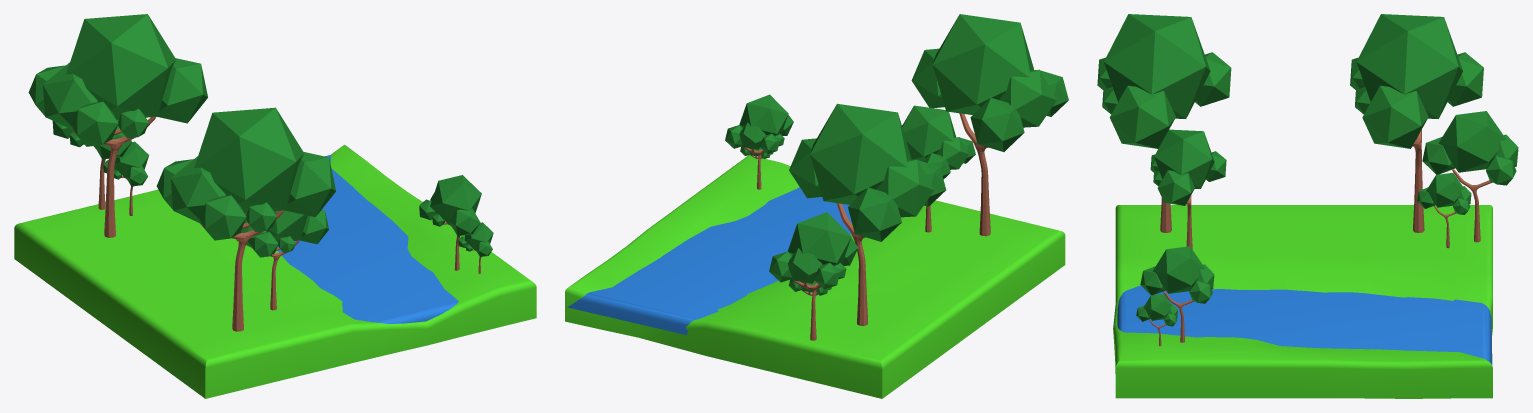
File: landscape.gltf
3 views of the same model, side by side, from view 1: azimuth 30°, elevation 25°; view 2: azimuth 150°, elevation 25°; view 3: azimuth 270°, elevation 25° (orthographic). The views are drawn at different scales.
Parts seen in each view (by area): view 1: land, Icosphere.001, Icosphere, water, Icosphere.005, Icosphere.002, Icosphere.010, treeTrunk.001, treeTrunk, Icosphere.009, Icosphere.006; view 2: land, water, Icosphere, Icosphere.001, Icosphere.009, Icosphere.002, Icosphere.005, treeTrunk.001, treeTrunk; view 3: land, water, Icosphere, Icosphere.001, Icosphere.009, Icosphere.002, Icosphere.005, Icosphere.010, Icosphere.006, treeTrunk, treeTrunk.014.
Part boxes in pixels (x1,y1,x2,y2): land: (14, 144, 536, 398); Icosphere.001: (156, 107, 335, 240); Icosphere: (28, 14, 207, 146); water: (277, 155, 458, 323); Icosphere.005: (419, 175, 481, 236); Icosphere.002: (236, 210, 328, 257); Icosphere.010: (103, 141, 149, 186); treeTrunk.001: (200, 210, 284, 331); treeTrunk: (72, 117, 156, 237); Icosphere.009: (52, 119, 131, 159); Icosphere.006: (458, 222, 493, 256); land: (565, 155, 1065, 398); water: (567, 187, 852, 335); Icosphere: (789, 103, 946, 241); Icosphere.001: (911, 14, 1068, 151); Icosphere.009: (769, 212, 858, 289); Icosphere.002: (902, 105, 975, 179); Icosphere.005: (725, 94, 793, 153); treeTrunk.001: (959, 113, 990, 236); treeTrunk: (836, 203, 900, 325); land: (1113, 205, 1492, 398); water: (1117, 285, 1492, 364); Icosphere: (1350, 14, 1483, 148); Icosphere.001: (1097, 14, 1231, 148); Icosphere.009: (1422, 111, 1518, 185); Icosphere.002: (1150, 129, 1226, 205); Icosphere.005: (1140, 246, 1214, 303); Icosphere.010: (1417, 172, 1471, 214); Icosphere.006: (1136, 294, 1177, 326); treeTrunk: (1412, 129, 1424, 232); treeTrunk.014: (1452, 169, 1492, 242).
Size of the model in its own units: 8.12 by 5.97 by 8.93.
